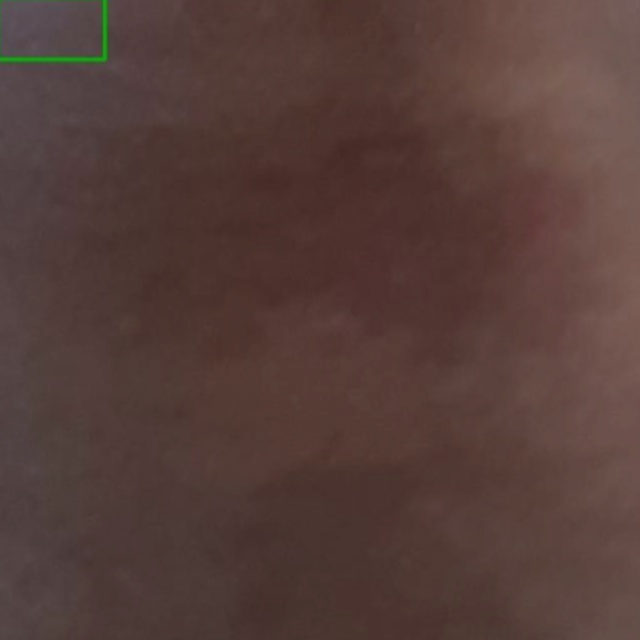Seborrheic Dermatitis: (0, 0, 105, 59)
